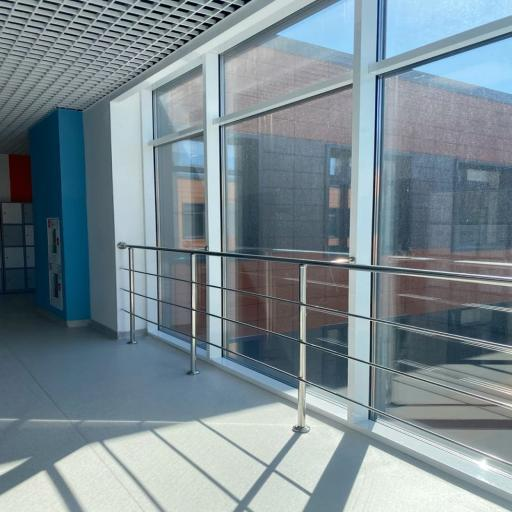elevator: (146, 0, 511, 479)
